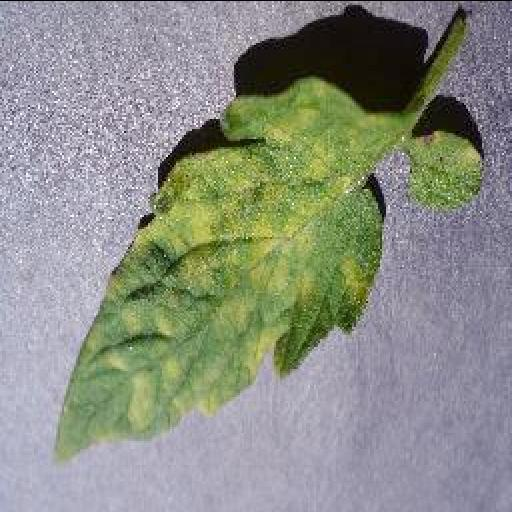disease_tomato: (50, 73, 406, 462)
